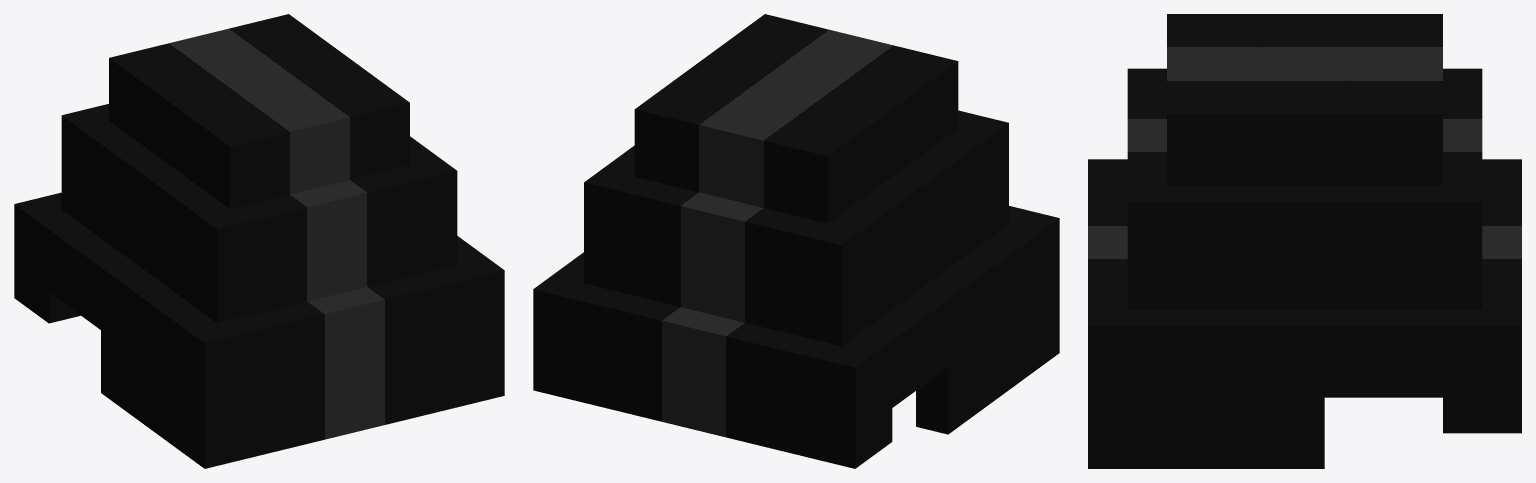
Rendered from darth_helmet.fbx.
3 views of the same model, side by side, from view 1: azimuth 30°, elevation 25°; view 2: azimuth 150°, elevation 25°; view 3: azimuth 270°, elevation 25° (orthographic). The views are drawn at different scales.
Visible parts, largest first — view 1: cube_1, cube_2, cube_3, cube, cube_6, cube_8, cube_5; view 2: cube_1, cube_2, cube, cube_5, cube_6, cube_8, cube_3; view 3: cube_1, cube_2, cube, cube_7, cube_4, cube_3, cube_5.
Part boxes in pixels (<box>): cube_1: <box>61,104,457,323</box>; cube_2: <box>109,14,409,209</box>; cube_3: <box>170,301,504,468</box>; cube: <box>14,192,504,374</box>; cube_6: <box>101,330,169,443</box>; cube_8: <box>49,261,169,380</box>; cube_5: <box>14,235,80,323</box>; cube_1: <box>584,110,1008,346</box>; cube_2: <box>634,14,958,223</box>; cube: <box>533,206,1059,401</box>; cube_5: <box>533,323,892,468</box>; cube_6: <box>916,313,1022,434</box>; cube_8: <box>892,279,1022,407</box>; cube_3: <box>1022,252,1059,379</box>; cube_1: <box>1127,68,1482,309</box>; cube_2: <box>1167,14,1442,185</box>; cube: <box>1088,159,1521,361</box>; cube_7: <box>1167,397,1324,468</box>; cube_4: <box>1167,361,1442,397</box>; cube_3: <box>1088,361,1166,468</box>; cube_5: <box>1443,361,1521,433</box>.
Size of the model in its own units: 62.5 by 56.25 by 68.75.
Materials: 1 (1 with a texture image).
